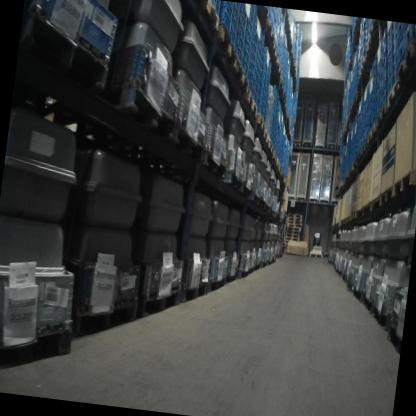pallet: (287, 213, 403, 355), (17, 3, 115, 95), (0, 309, 74, 376), (104, 83, 179, 140), (71, 288, 140, 348), (138, 282, 182, 321), (171, 123, 208, 164), (213, 23, 241, 70), (395, 42, 416, 82), (391, 165, 416, 198), (180, 278, 208, 306), (202, 149, 227, 180), (198, 0, 221, 32), (233, 58, 252, 93), (370, 303, 391, 331), (241, 89, 260, 118), (223, 168, 243, 191), (385, 80, 400, 109), (206, 273, 226, 294), (263, 18, 277, 44), (375, 101, 388, 128), (379, 183, 393, 205), (361, 295, 374, 314), (240, 182, 253, 200), (261, 127, 272, 147), (367, 123, 377, 144), (255, 112, 266, 131), (351, 287, 364, 303), (269, 43, 279, 63), (368, 18, 377, 40), (359, 55, 366, 77), (275, 58, 283, 77), (364, 39, 371, 59), (309, 249, 323, 259), (260, 5, 270, 18), (250, 191, 260, 204), (360, 141, 369, 155), (268, 140, 275, 155), (355, 74, 361, 90), (286, 219, 302, 225), (284, 236, 299, 242), (346, 282, 354, 293), (355, 149, 361, 163), (286, 223, 302, 228), (285, 230, 300, 235), (285, 233, 300, 238), (412, 24, 416, 42), (286, 226, 300, 231), (287, 217, 301, 222), (351, 159, 357, 170), (325, 144, 336, 150), (271, 151, 277, 162), (349, 211, 356, 220), (343, 171, 349, 181), (275, 157, 280, 169), (285, 114, 290, 124), (292, 142, 300, 148), (338, 180, 343, 189), (348, 164, 352, 175), (346, 214, 351, 222), (288, 130, 292, 139), (278, 166, 282, 175), (280, 171, 284, 180), (282, 175, 286, 183), (343, 217, 346, 224), (336, 146, 340, 151), (284, 240, 288, 244), (283, 249, 286, 254), (283, 246, 286, 251), (284, 243, 287, 246)
small_load_carrier: (385, 36, 400, 75), (401, 22, 416, 52), (391, 42, 406, 71), (385, 26, 399, 56), (385, 64, 398, 96), (391, 21, 406, 47), (385, 20, 394, 37)
